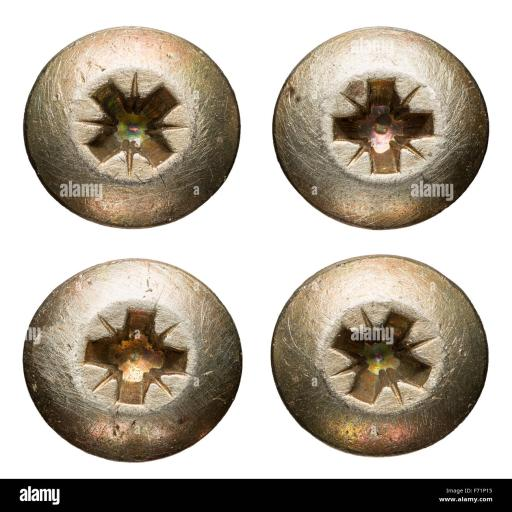Phillips: (21, 257, 243, 466), (269, 251, 488, 460), (270, 24, 490, 228), (20, 27, 240, 229)
